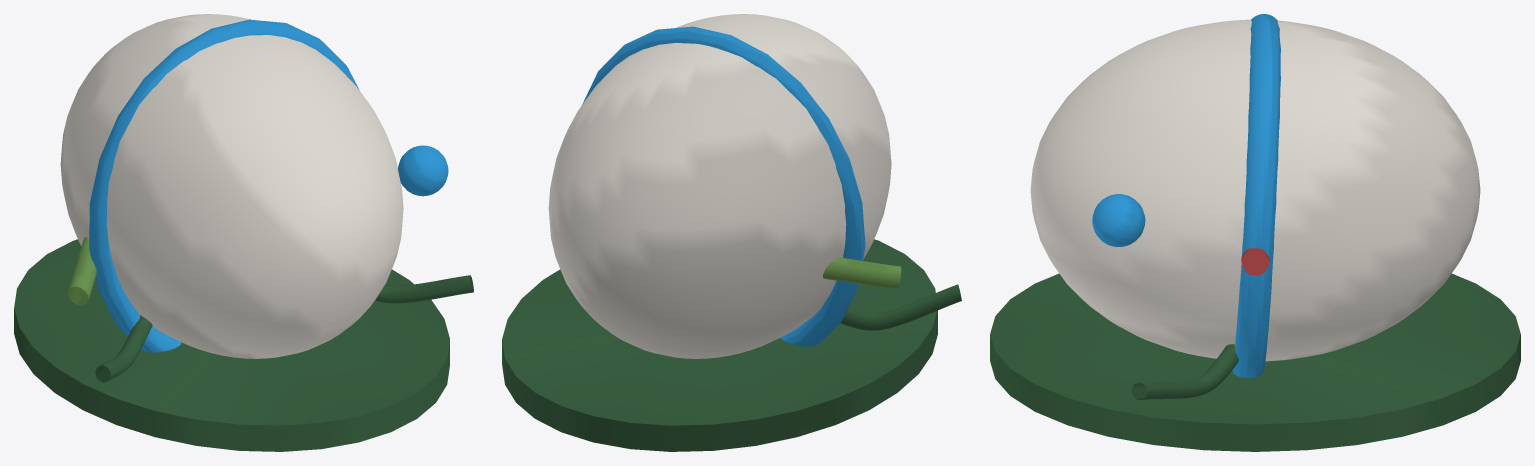
Rendered from 1209_细胞图鉴_基质.glb.
3 renders of one model, left to right at view 1: azimuth 30°, elevation 25°; view 2: azimuth 150°, elevation 25°; view 3: azimuth 270°, elevation 25°, orthographic. The views are drawn at different scales.
Visible parts, largest first — view 1: card_1209; view 2: card_1209; view 3: card_1209.
Part boxes in pixels (left/top/right/bottom): card_1209: left=14, top=14, right=473, bottom=451; card_1209: left=502, top=14, right=961, bottom=451; card_1209: left=990, top=14, right=1520, bottom=451.
Bounding box in the file's own units: 1.19 × 1 × 1.38.
